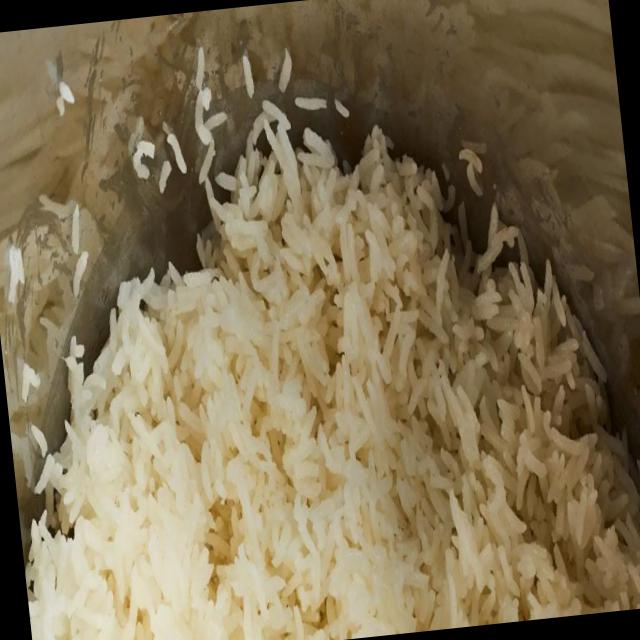rice: (24, 103, 640, 640)
